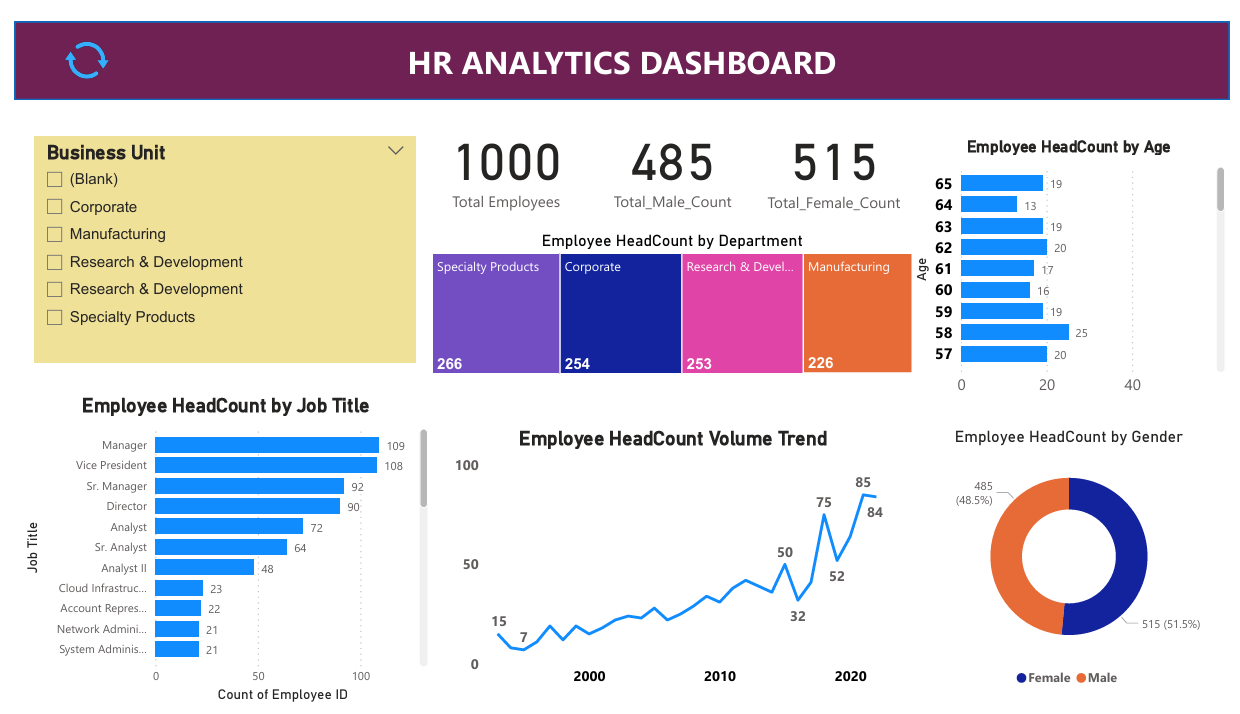

This screenshot's page, from the dashboard's own definition file:
{"tool":"powerbi","page":{"name":"Page 1","canvas":[1280,720],"ordinal":0},"visuals":[{"type":"card","fields":{"Values":["CountNonNull(Employee Data.Employee ID)"]},"box":[434.8,89.9,166.4,122.1],"z":0},{"type":"lineChart","title":"Employee HeadCount  Volume Trend","fields":{"Category":["Employee Data.Hire Date.Variation.Date Hierarchy.Year"],"Y":["CountNonNull(Employee Data.Employee ID)"]},"box":[457.6,426.7,472.3,283.1],"z":1000},{"type":"donutChart","title":"Employee HeadCount by Gender","fields":{"Category":["Employee Data.Gender"],"Y":["CountNonNull(Employee Data.Employee ID)"]},"box":[942,426.7,338.1,283.1],"z":2000},{"type":"clusteredBarChart","title":" Employee HeadCount by Age","fields":{"Category":["Employee Data.Age"],"Y":["CountNonNull(Employee Data.Employee ID)"]},"box":[942,120.8,338.1,281.8],"z":3000},{"type":"shape","title":" BV BV V GHMGH","box":[0,0,1280.1,81.9],"z":4000},{"type":"treemap","title":"Employee HeadCount by Department","fields":{"Group":["Employee Data.Business Unit"],"Values":["CountNonNull(Employee Data.Employee ID)"]},"box":[434.8,220.1,516.6,155.7],"z":5000},{"type":"clusteredBarChart","title":"Employee HeadCount by Job Title","fields":{"Category":["Employee Data.Job Title"],"Y":["CountNonNull(Employee Data.Employee ID)"]},"box":[5.4,391.8,434.8,328.7],"z":6000},{"type":"card","fields":{"Values":["Employee Data.Total_Male_Count"]},"box":[625.3,99.3,136.9,103.3],"z":7000},{"type":"card","fields":{"Values":["Employee Data.Total_Female_Count"]},"box":[775.6,95.3,175.8,112.7],"z":8000},{"type":"slicer","fields":{"Values":["Employee Data.Business Unit"]},"box":[21.5,120.8,401.2,238.8],"z":9000},{"type":"image","box":[21.5,6.7,110,68.4],"z":9001}]}

Visuals, with their boxes in screenshot pixels (x1, y1, x2, y2), scaled from the page's 1280x720 canvas onto the 1240x714 screenshot:
card - CountNonNull(Employee Data.Employee ID): <bbox>421, 89, 582, 210</bbox>
"Employee HeadCount  Volume Trend" lineChart: <bbox>443, 423, 901, 704</bbox>
"Employee HeadCount by Gender" donutChart: <bbox>913, 423, 1239, 704</bbox>
" Employee HeadCount by Age" clusteredBarChart: <bbox>913, 120, 1239, 399</bbox>
" BV BV V GHMGH" shape: <bbox>0, 0, 1239, 81</bbox>
"Employee HeadCount by Department" treemap: <bbox>421, 218, 922, 373</bbox>
"Employee HeadCount by Job Title" clusteredBarChart: <bbox>5, 389, 426, 713</bbox>
card - Employee Data.Total_Male_Count: <bbox>606, 98, 738, 201</bbox>
card - Employee Data.Total_Female_Count: <bbox>751, 95, 922, 206</bbox>
slicer - Employee Data.Business Unit: <bbox>21, 120, 409, 357</bbox>
image: <bbox>21, 7, 127, 74</bbox>
